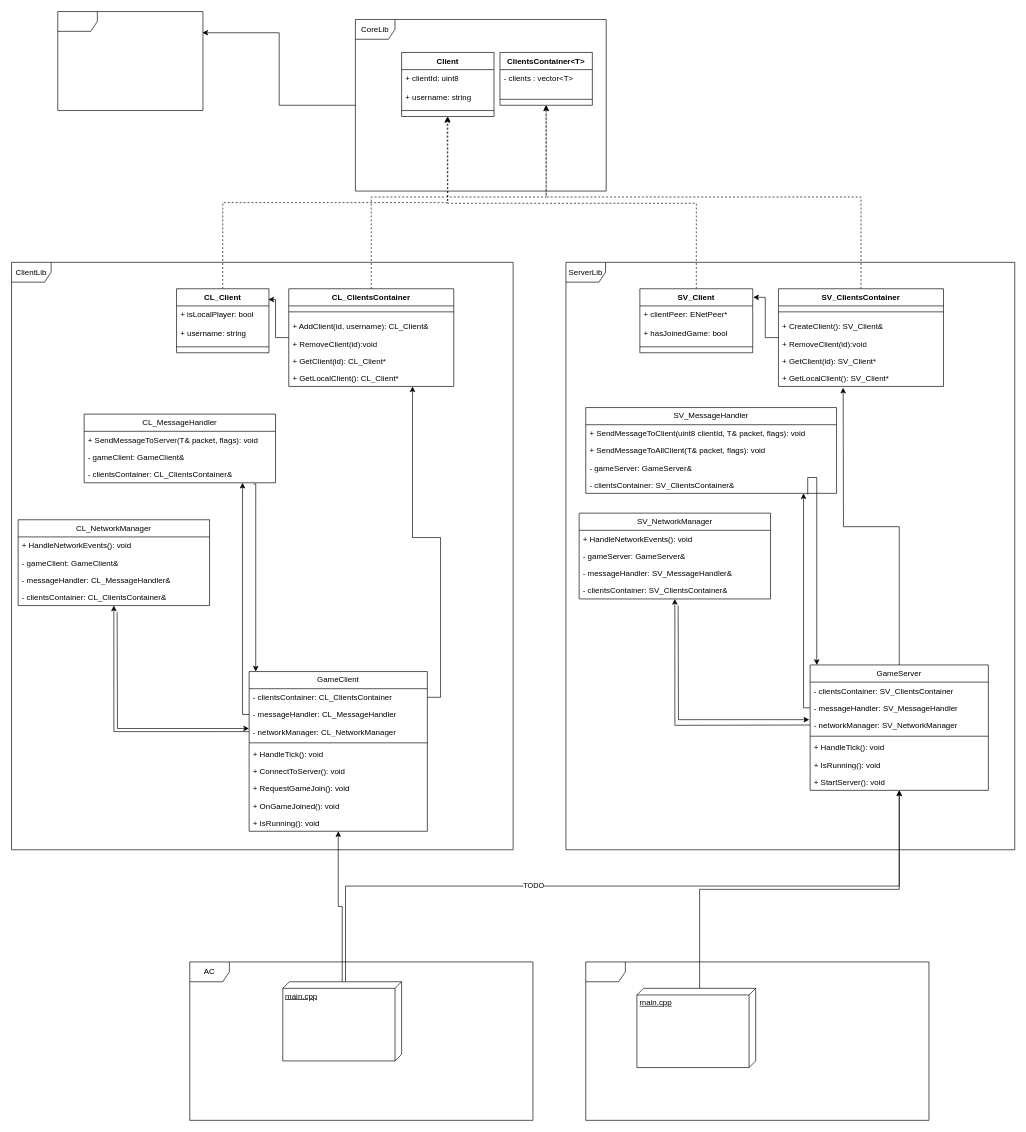
Image size: 1026x1132. Some labels were removed from this diagram. The centre of each missing label's shape, as x and y in pixels:
"ACServer" goes at [757,1040].
"NeelaEngine" goes at [130,61].
